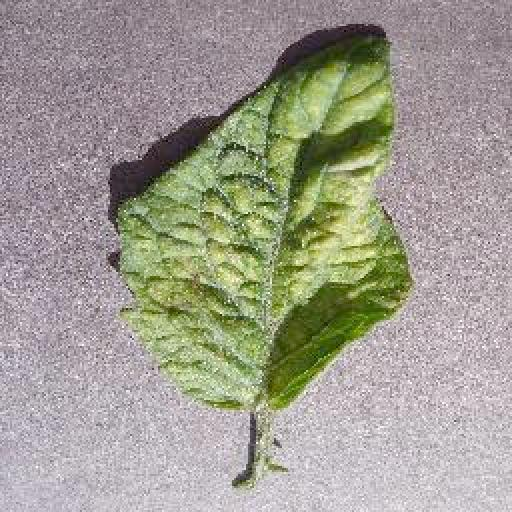disease_tomato: (120, 34, 412, 414)
